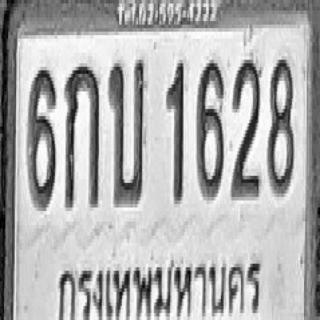A01: (64, 63, 99, 208)
A26: (108, 58, 145, 206)
N01: (165, 58, 184, 202)
N02: (231, 56, 260, 197)
N06: (28, 67, 56, 208), (197, 56, 224, 197)
N08: (267, 56, 294, 193)
P04: (54, 245, 266, 320)
